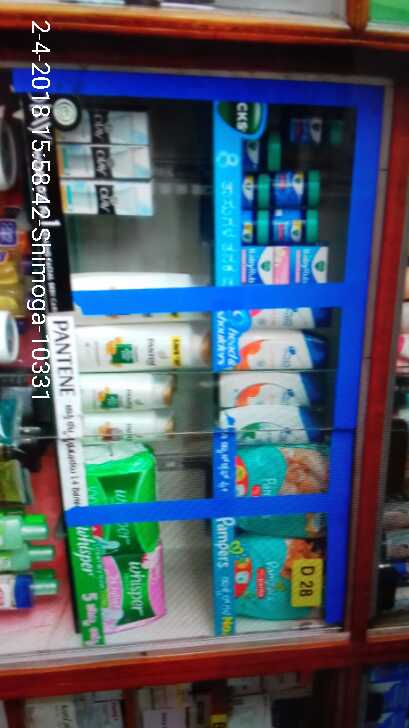vicks: (246, 117, 351, 288)
